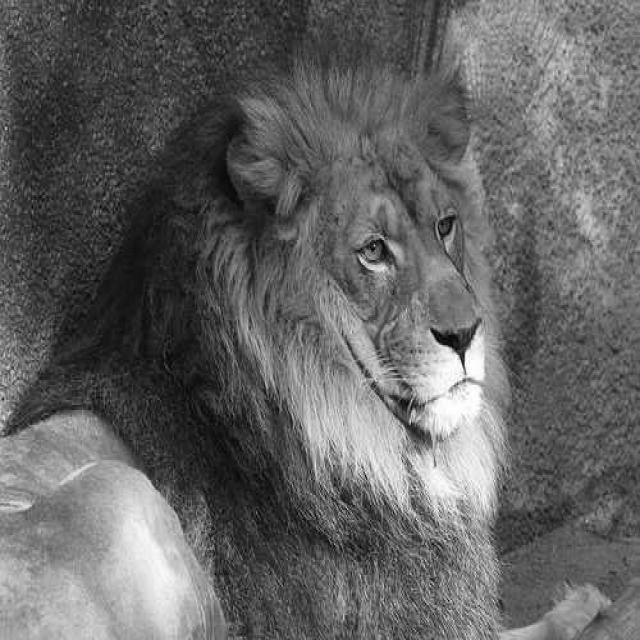Lion: (174, 41, 552, 533)
